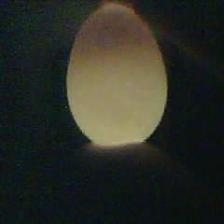infertile: (61, 2, 170, 150)
